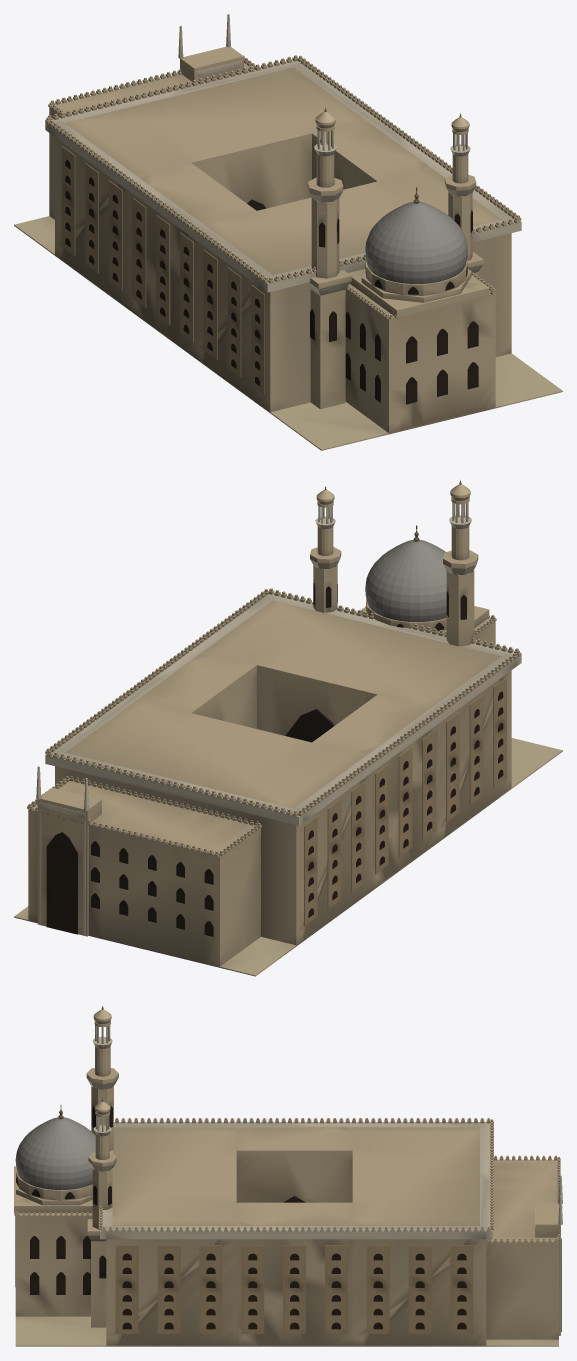
Rendered from sultan-hasan.glb.
3 renders of one model, top to bottom at view 1: azimuth 30°, elevation 25°; view 2: azimuth 150°, elevation 25°; view 3: azimuth 270°, elevation 25°, orthographic. The views are drawn at different scales.
Visible parts, largest first — view 1: p1_walls, p2_facades and mausoleum, p3_dome and minarets, p0_ground; view 2: p1_walls, p2_facades and mausoleum, p3_dome and minarets, p0_ground; view 3: p1_walls, p2_facades and mausoleum, p3_dome and minarets, p0_ground.
Part boxes in pixels (x1,y1,x2,y2): p1_walls: (55, 67, 511, 412); p2_facades and mausoleum: (45, 14, 521, 433); p3_dome and minarets: (308, 107, 489, 409); p0_ground: (14, 216, 562, 450); p1_walls: (55, 600, 511, 946); p2_facades and mausoleum: (27, 588, 521, 967); p3_dome and minarets: (310, 480, 489, 646); p0_ground: (14, 738, 562, 976); p1_walls: (106, 1127, 486, 1346); p2_facades and mausoleum: (14, 1118, 562, 1339); p3_dome and minarets: (14, 1006, 118, 1327); p0_ground: (15, 1316, 558, 1346).
Size of the model in its own units: 72.1 by 79.4 by 152.
